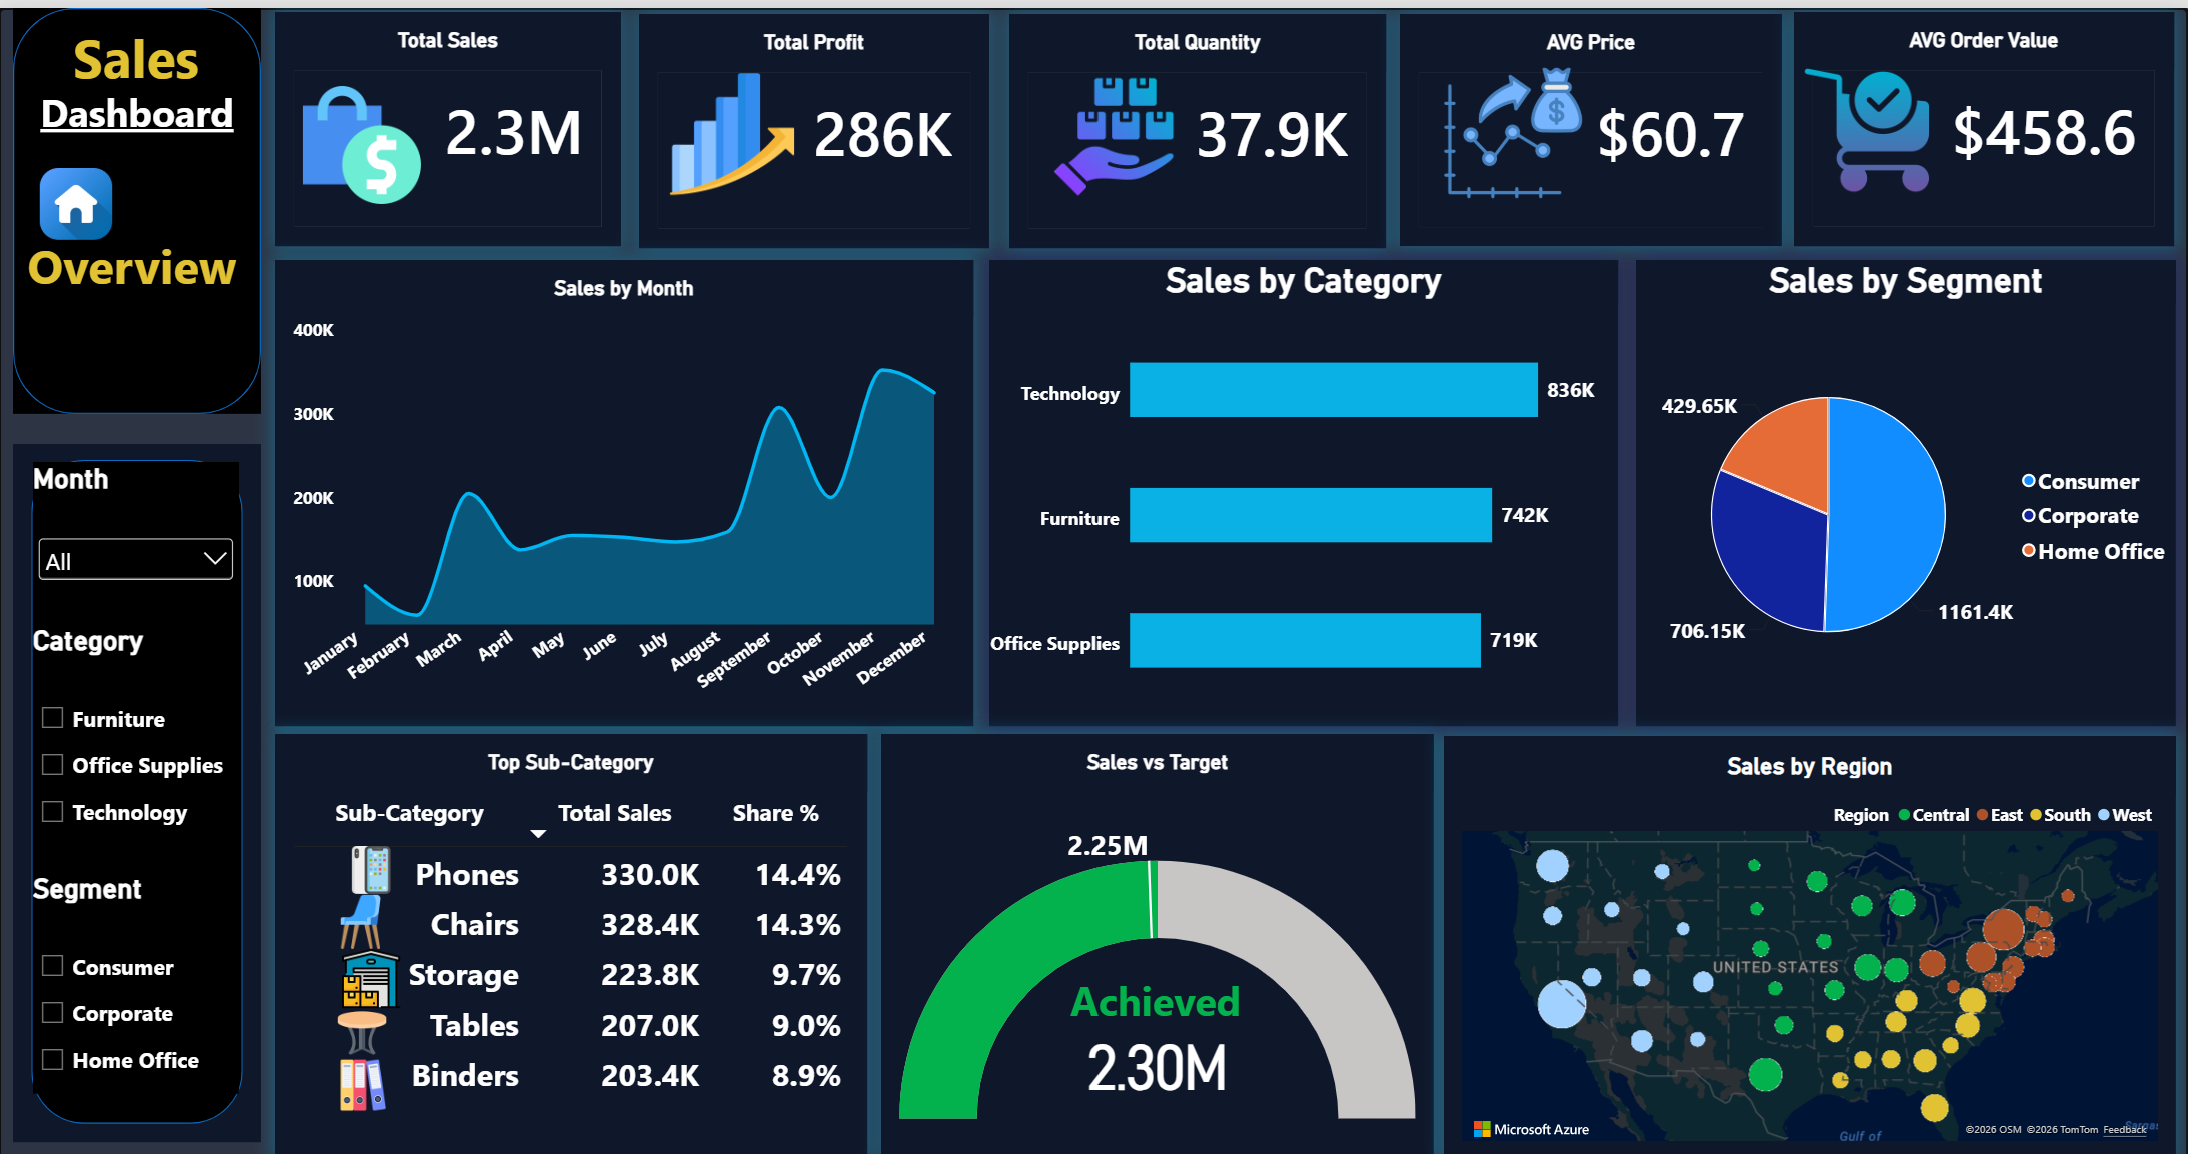

This screenshot's page, from the dashboard's own definition file:
{"tool":"powerbi","page":{"name":"Page 1","canvas":[1920,1080],"ordinal":0},"visuals":[{"type":"cardVisual","title":"Total Quantity","fields":{"Data":["Cleandar.Total Quantity"]},"box":[886,5.3,329.8,205.3],"z":0},{"type":"cardVisual","title":"AVG Price","fields":{"Data":["Cleandar.Avg Price"]},"box":[1228.1,5.3,335.1,203.5],"z":1000},{"type":"cardVisual","title":"AVG Order Value","fields":{"Data":["Cleandar.Avg Order Valuw"]},"box":[1573.7,3.5,333.3,205.3],"z":2000},{"type":"cardVisual","title":"Total Sales","fields":{"Data":["Cleandar.Total Sales"]},"box":[242.1,3.5,303.5,205.3],"z":3000},{"type":"cardVisual","title":"Total Profit","fields":{"Data":["Cleandar.Total Profit"]},"box":[561.4,5.3,307,205.3],"z":4000},{"type":"lineChart","title":"Sales by Month","fields":{"Category":["Cleandar.Month"],"Y":["Cleandar.Total Sales"]},"box":[242.1,221.1,612.3,408.8],"z":5000},{"type":"clusteredBarChart","title":"Sales by Category","fields":{"Category":["Date-Dashburd.Category"],"Y":["Cleandar.Total Sales"]},"box":[868.4,221.1,550.9,408.8],"z":6000},{"type":"pieChart","title":"Sales by Segment","fields":{"Category":["Date-Dashburd.Segment"],"Y":["Cleandar.Total Sales"]},"box":[1435.1,221.1,473.7,408.8],"z":7000},{"type":"tableEx","title":"Top Sub-Category","fields":{"Values":["Date-Dashburd.Sub-Category","Cleandar.Total Sales","Cleandar.Share %"]},"box":[242.1,636.8,519.3,371.9],"z":8000},{"type":"gauge","title":"Sales vs Target","fields":{"TargetValue":["Cleandar.Target"],"Y":["Cleandar.Total Sales"]},"box":[773.7,636.8,484.2,371.9],"z":9000},{"type":"azureMap","title":"Sales by Region","fields":{"Category":["Date-Dashburd.State"],"Series":["Date-Dashburd.Region"],"Size":["Sum(Date-Dashburd.Sales)"]},"box":[1266.7,638.6,642.1,371.9],"z":10000},{"type":"shape","box":[12.3,0,217.5,356.1],"z":11000},{"type":"shape","box":[12.3,382.5,217.5,612.3],"z":12000},{"type":"slicer","title":"Month","fields":{"Values":["Cleandar.Month"]},"box":[29.8,398.2,180.7,142.1],"z":13000},{"type":"slicer","title":"Segment","fields":{"Values":["Date-Dashburd.Segment"]},"box":[29.8,757.9,180.7,194.7],"z":14000},{"type":"slicer","title":"Category","fields":{"Values":["Date-Dashburd.Category"]},"box":[29.8,540.4,180.7,194.7],"z":15000},{"type":"actionButton","box":[29.8,5.3,180.7,73.7],"z":16000},{"type":"actionButton","box":[21.1,42.1,200,98.2],"z":17000},{"type":"actionButton","box":[12.3,184.2,208.8,84.2],"z":18000},{"type":"image","box":[12.3,140.4,110.5,63.2],"z":20000},{"type":"image","box":[242.1,68.4,152.6,103.5],"z":21000},{"type":"image","box":[284.2,921.1,70.2,47.4],"z":22000},{"type":"image","box":[282.5,877.2,71.9,43.9],"z":23000},{"type":"image","box":[284.2,775.4,70.2,52.6],"z":24000},{"type":"image","box":[296.5,735.1,59.6,42.1],"z":25000},{"type":"image","box":[1563.2,52.6,149.1,108.8],"z":26000},{"type":"image","box":[1257.9,49.1,138.6,121.1],"z":27000},{"type":"image","box":[922.8,52.6,108.8,121.1],"z":28000},{"type":"image","box":[582.5,56.1,121.1,108.8],"z":29000},{"type":"image","box":[300,824.6,54.4,54.4],"z":30000},{"type":"actionButton","box":[922.8,840.4,182.5,59.6],"z":30001}]}

Visuals, with their boxes on the page's 1920x1080 design canvas (x1, y1, x2, y2). These are canvas units, not pixel positions in the 2188x1154 screenshot, which may show the page scaled, cropped or inside an application window:
"Total Quantity" cardVisual: pyautogui.locateOnScreen(886, 5, 1216, 211)
"AVG Price" cardVisual: pyautogui.locateOnScreen(1228, 5, 1563, 209)
"AVG Order Value" cardVisual: pyautogui.locateOnScreen(1574, 4, 1907, 209)
"Total Sales" cardVisual: pyautogui.locateOnScreen(242, 4, 546, 209)
"Total Profit" cardVisual: pyautogui.locateOnScreen(561, 5, 868, 211)
"Sales by Month" lineChart: pyautogui.locateOnScreen(242, 221, 854, 630)
"Sales by Category" clusteredBarChart: pyautogui.locateOnScreen(868, 221, 1419, 630)
"Sales by Segment" pieChart: pyautogui.locateOnScreen(1435, 221, 1909, 630)
"Top Sub-Category" tableEx: pyautogui.locateOnScreen(242, 637, 761, 1009)
"Sales vs Target" gauge: pyautogui.locateOnScreen(774, 637, 1258, 1009)
"Sales by Region" azureMap: pyautogui.locateOnScreen(1267, 639, 1909, 1010)
shape: pyautogui.locateOnScreen(12, 0, 230, 356)
shape: pyautogui.locateOnScreen(12, 382, 230, 995)
"Month" slicer: pyautogui.locateOnScreen(30, 398, 210, 540)
"Segment" slicer: pyautogui.locateOnScreen(30, 758, 210, 953)
"Category" slicer: pyautogui.locateOnScreen(30, 540, 210, 735)
actionButton: pyautogui.locateOnScreen(30, 5, 210, 79)
actionButton: pyautogui.locateOnScreen(21, 42, 221, 140)
actionButton: pyautogui.locateOnScreen(12, 184, 221, 268)
image: pyautogui.locateOnScreen(12, 140, 123, 204)
image: pyautogui.locateOnScreen(242, 68, 395, 172)
image: pyautogui.locateOnScreen(284, 921, 354, 968)
image: pyautogui.locateOnScreen(282, 877, 354, 921)
image: pyautogui.locateOnScreen(284, 775, 354, 828)
image: pyautogui.locateOnScreen(296, 735, 356, 777)
image: pyautogui.locateOnScreen(1563, 53, 1712, 161)
image: pyautogui.locateOnScreen(1258, 49, 1396, 170)
image: pyautogui.locateOnScreen(923, 53, 1032, 174)
image: pyautogui.locateOnScreen(582, 56, 704, 165)
image: pyautogui.locateOnScreen(300, 825, 354, 879)
actionButton: pyautogui.locateOnScreen(923, 840, 1105, 900)
